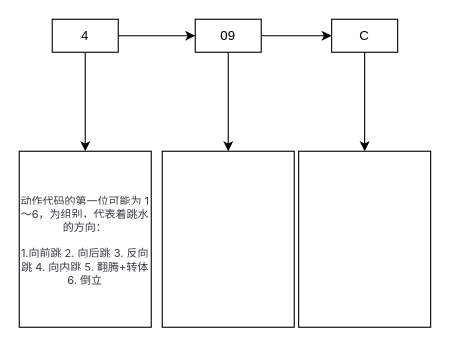
Some shapes in this 450 by 347 pixel diagram are drawn without their labels. Here are the shapes that lost their labels. From the top down, the box of each, then its label:
(161, 150, 294, 327): 09代表4周半 每加1就代表多半周
(298, 150, 431, 327): 代表翻腾的姿态 A：直体 B：屈体 C：抱膝 D：自由（一般是翻腾+转体）
